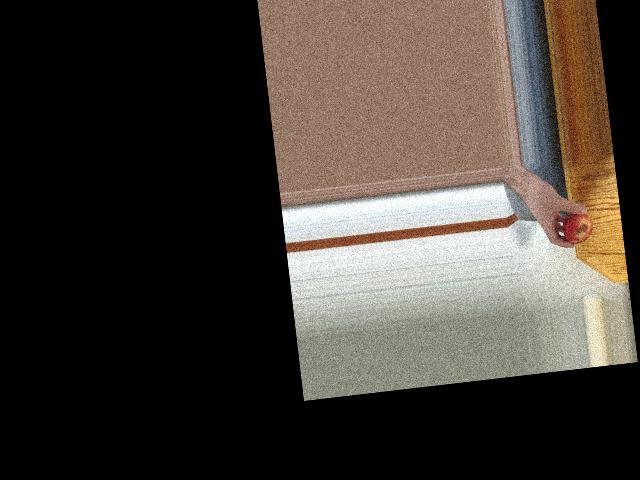apple: (557, 207, 593, 246)
